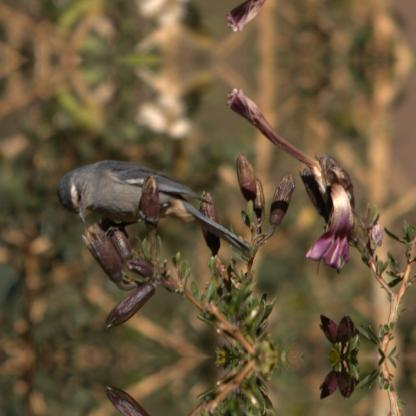Bird: (54, 159, 252, 263)
